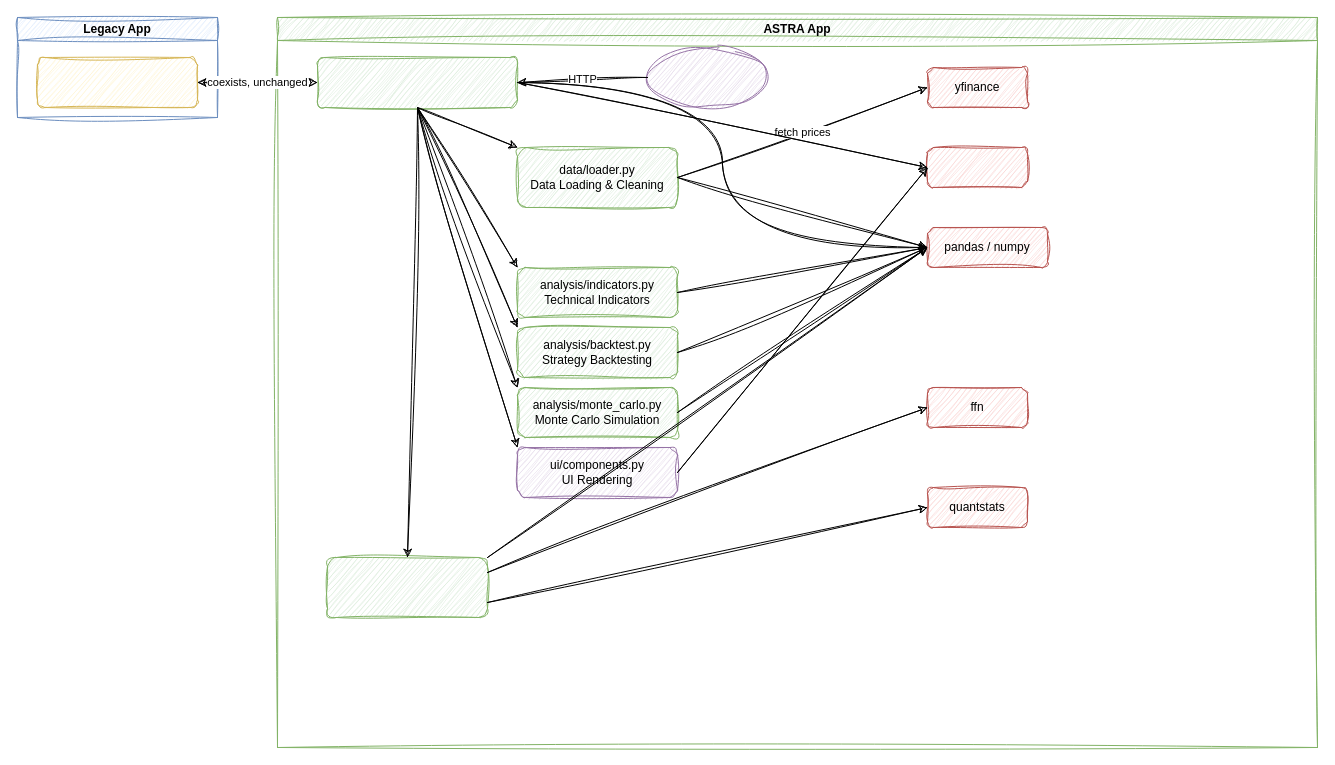
Image size: 1335x765. Some labels were removed from this diagram. Each missing label, with the box of its shape:
Analyst / User: (646, 46, 768, 108)
ASTRA.py (Streamlit UI): (316, 56, 518, 108)
risk/metrics.py Returns, Vol, Drawdowns, Risk Metrics: (326, 556, 488, 618)
Stock_RAVA.py (Original App): (36, 56, 198, 108)
streamlit: (926, 146, 1028, 188)
